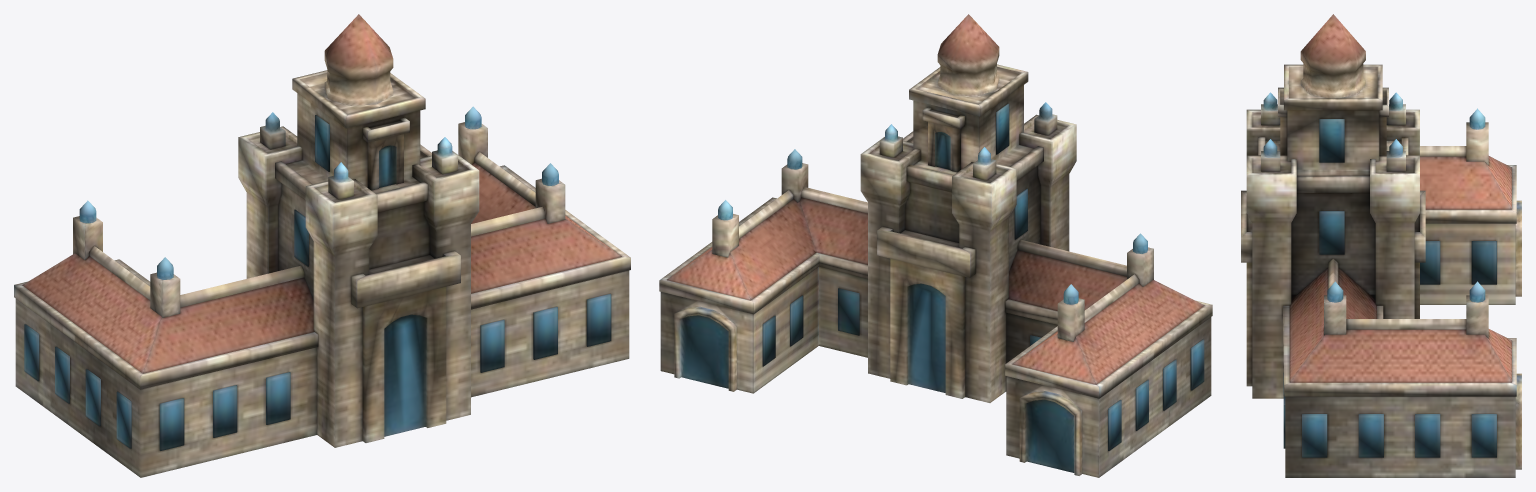
Rendered from IsaacNewtonsCollege.glb.
3 renders of one model, left to right at view 1: azimuth 30°, elevation 25°; view 2: azimuth 150°, elevation 25°; view 3: azimuth 270°, elevation 25°, orthographic. The views are drawn at different scales.
Visible parts, largest first — view 1: Cube.020; view 2: Cube.020; view 3: Cube.020.
Part boxes in pixels (box(x1,y1,x2,y2)): Cube.020: box(14, 14, 630, 477); Cube.020: box(659, 14, 1212, 477); Cube.020: box(1241, 14, 1521, 477).
Bounding box in the file's own units: 10.84 × 8.12 × 5.84.
Materials: 1 (1 with a texture image).
